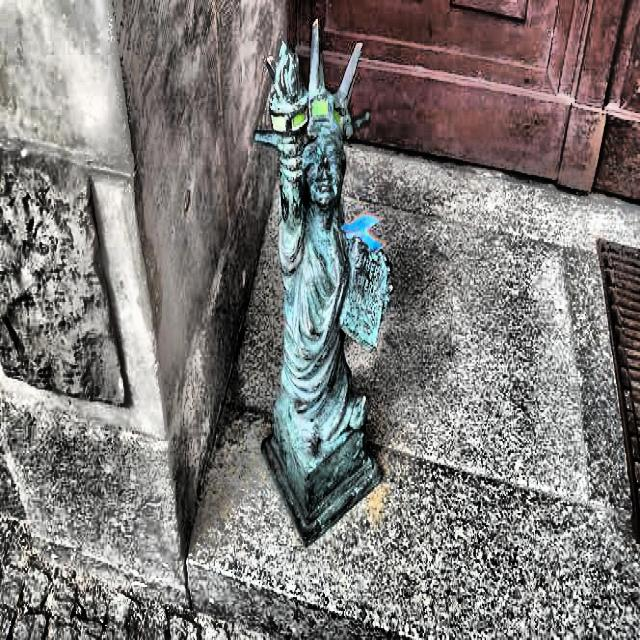LadyWolnosc: (254, 20, 391, 540)
